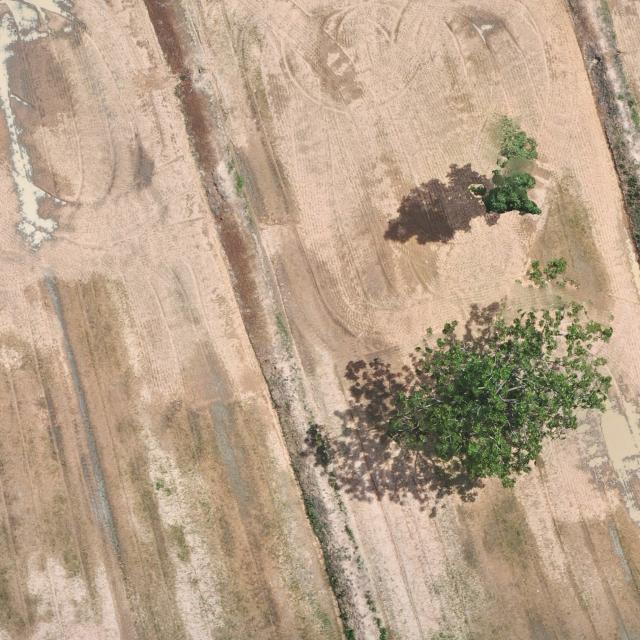Tree: (378, 297, 615, 491), (468, 111, 546, 219)
